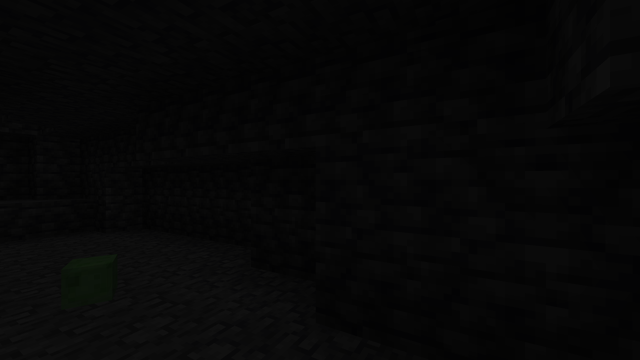slimes: (59, 252, 122, 309)
